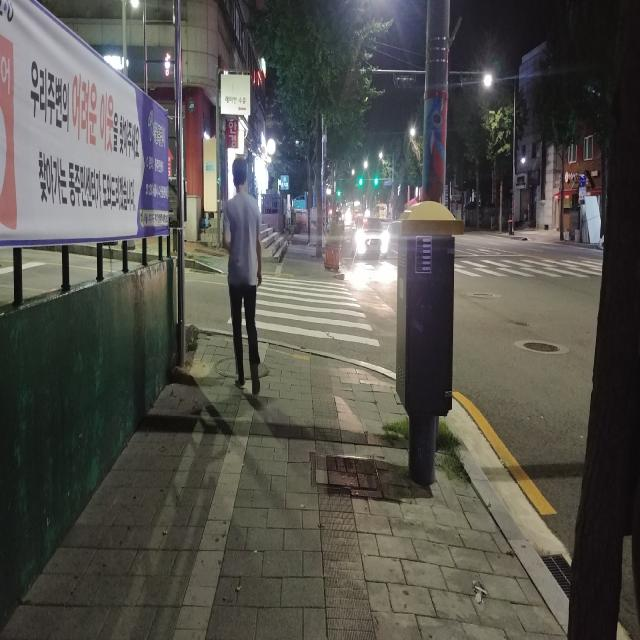횡단보도: (226, 274, 382, 348), (457, 249, 603, 278)
